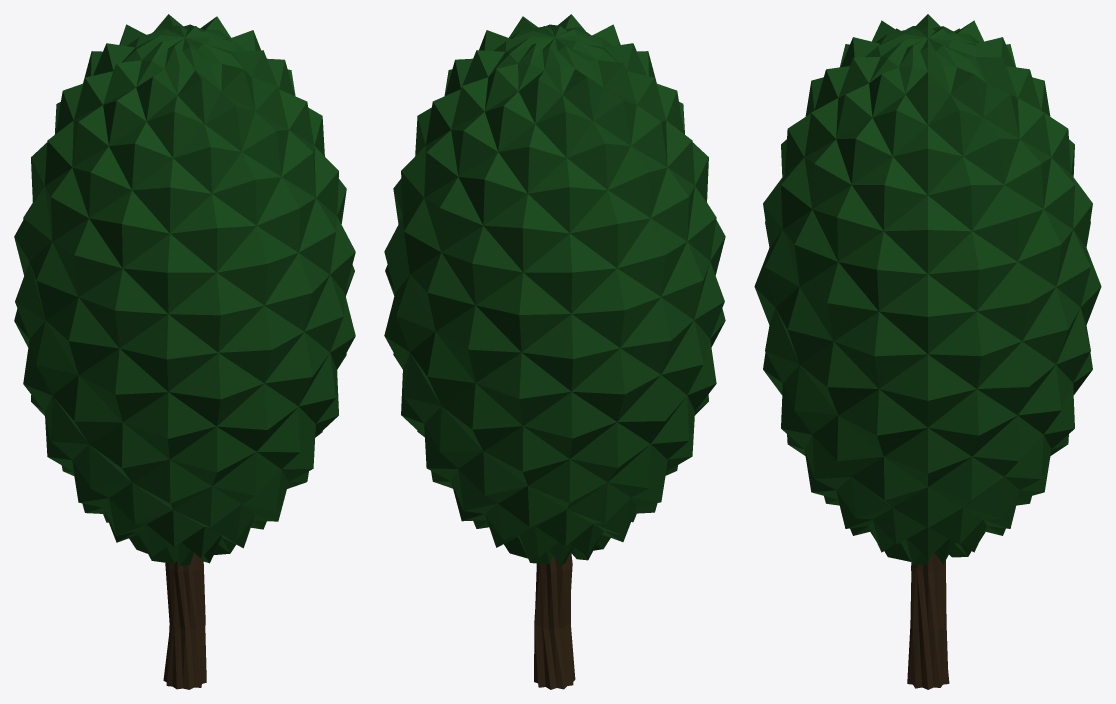
Rendered from TallSkinnyTree_Green.fbx.
The picture shows the model from 3 angles, left to right: view 1: azimuth 30°, elevation 25°; view 2: azimuth 150°, elevation 25°; view 3: azimuth 270°, elevation 25°; orthographic projection.
Visible parts, largest first — view 1: pSphere2, pCylinder2; view 2: pSphere2, pCylinder2; view 3: pSphere2, pCylinder2.
Boxes of the visible parts, <box> form: pSphere2: <box>14,14,355,565</box>; pCylinder2: <box>163,553,206,689</box>; pSphere2: <box>384,14,725,565</box>; pCylinder2: <box>534,552,575,689</box>; pSphere2: <box>754,14,1101,564</box>; pCylinder2: <box>907,553,949,689</box>.
Bounding box in the file's own units: 11.59 × 24.03 × 11.73.
